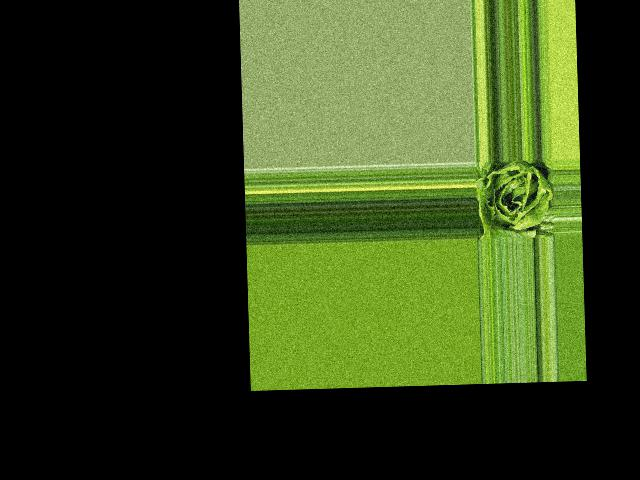lettuce: (475, 160, 554, 240)
